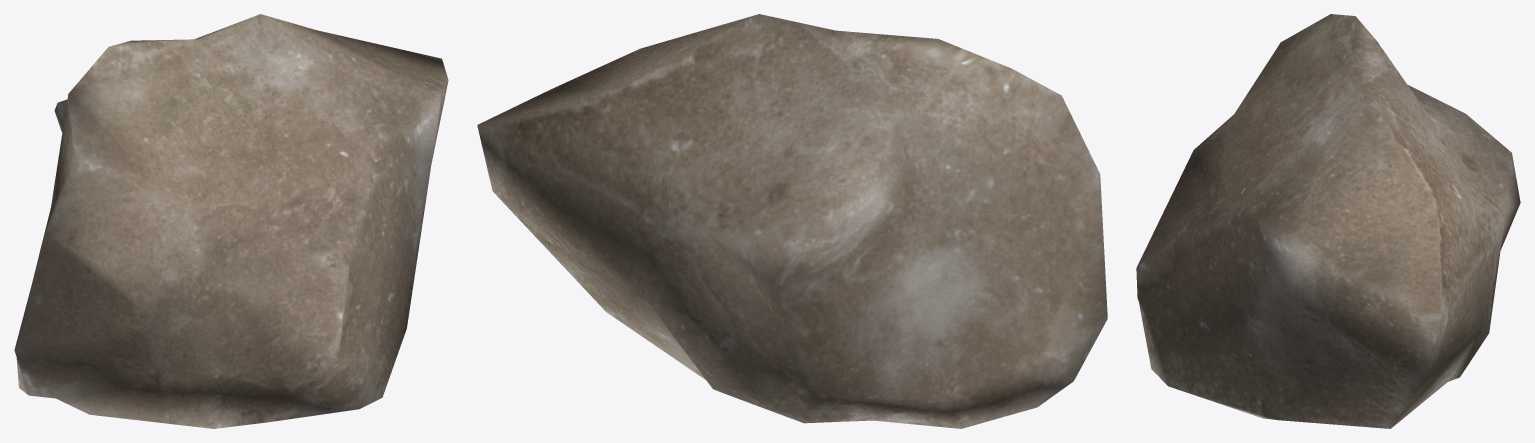
Rendered from Aset_nature_rock_S_veosfhj.fbx.
The picture shows the model from 3 angles, left to right: view 1: azimuth 30°, elevation 25°; view 2: azimuth 150°, elevation 25°; view 3: azimuth 270°, elevation 25°; orthographic projection. The views are drawn at different scales.
Visible parts, largest first — view 1: Aset_nature_rock_S_veosfhj_LOD0; view 2: Aset_nature_rock_S_veosfhj_LOD0; view 3: Aset_nature_rock_S_veosfhj_LOD0.
Boxes of the visible parts, x1,y1,x2,y2 form: Aset_nature_rock_S_veosfhj_LOD0: (14,14,448,428); Aset_nature_rock_S_veosfhj_LOD0: (477,14,1107,428); Aset_nature_rock_S_veosfhj_LOD0: (1136,14,1520,428).
Size of what is drawn, in the model's own units: 55.71 by 34.92 by 39.9.
